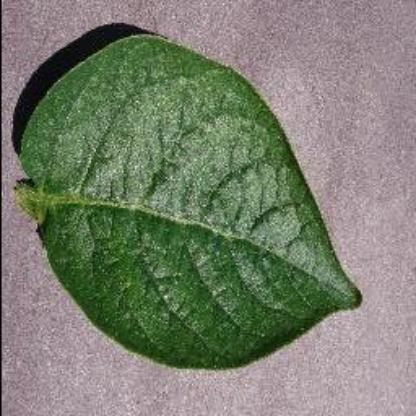Healthy-plant: (12, 33, 376, 375)
